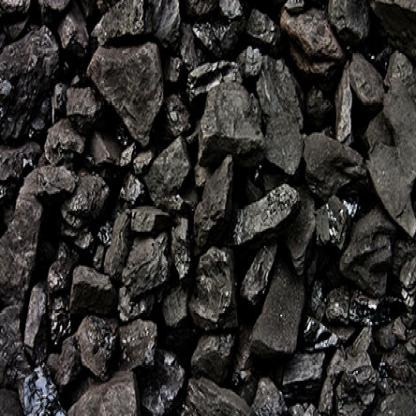Sedimentary_coal: (369, 52, 415, 252), (88, 31, 166, 143), (327, 53, 383, 160), (255, 268, 310, 366), (232, 176, 304, 246), (51, 361, 140, 415), (213, 73, 269, 146), (64, 174, 108, 212)
